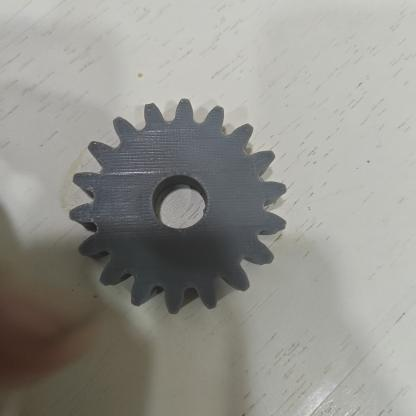gear: (70, 99, 286, 314)
